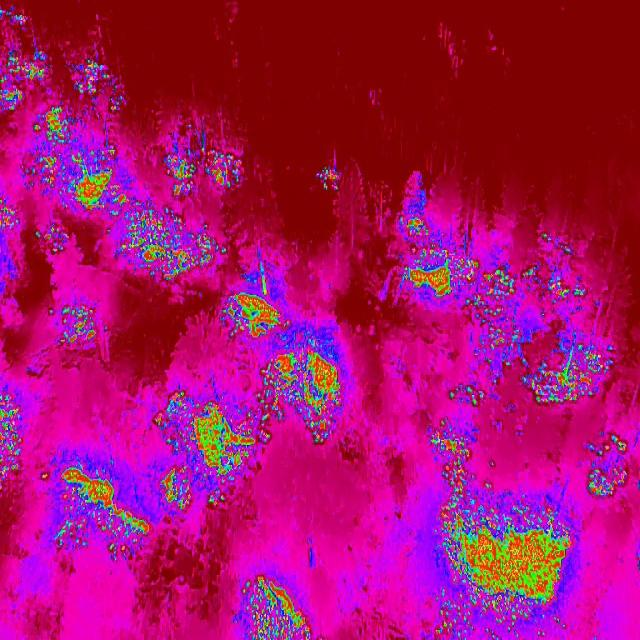fire: (0, 118, 239, 278), (444, 236, 616, 409), (434, 494, 578, 640), (150, 388, 261, 514), (252, 326, 354, 450), (0, 44, 130, 118), (56, 461, 147, 564), (392, 192, 469, 299), (228, 574, 316, 638), (428, 428, 502, 492), (574, 427, 638, 498), (46, 299, 114, 355), (222, 288, 290, 336), (0, 392, 25, 487), (0, 0, 35, 32), (316, 162, 347, 194)
